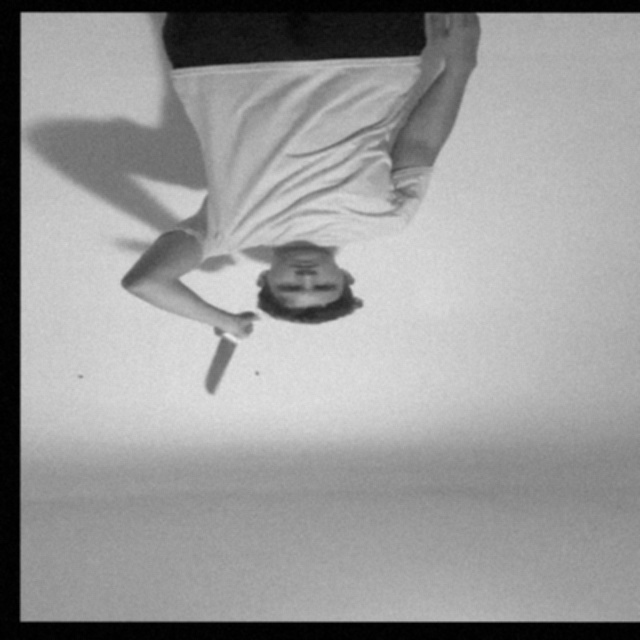Sharp-Object: (202, 343, 235, 398)
